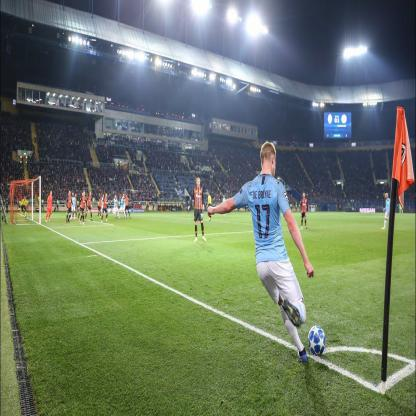corner kick: (246, 79, 414, 406)
